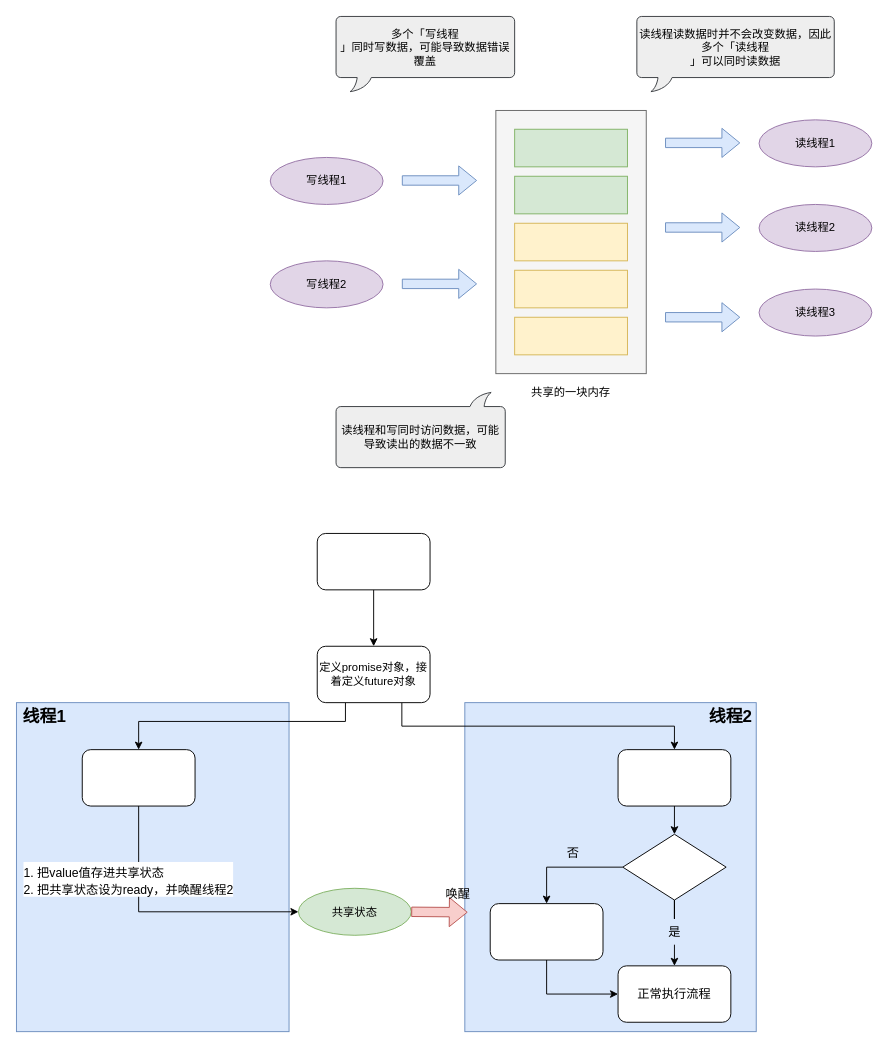
Image size: 888x1048. Some labels were removed from this diagram. Here are the shapes that lost their labels. From the top down, the centre of each, then its label:
At point (373, 561): "开始".
At point (138, 777): "promise对象调用set_value()".
At point (674, 777): "future对象调用get()进行阻塞，等待promise对象的通知".
At point (674, 866): "共享状态是否ready".
At point (546, 931): "进入阻塞状态".
